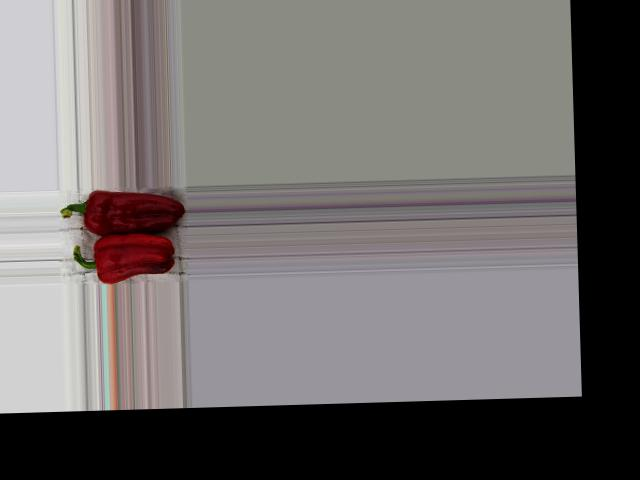bell_pepper: (56, 188, 185, 238)
